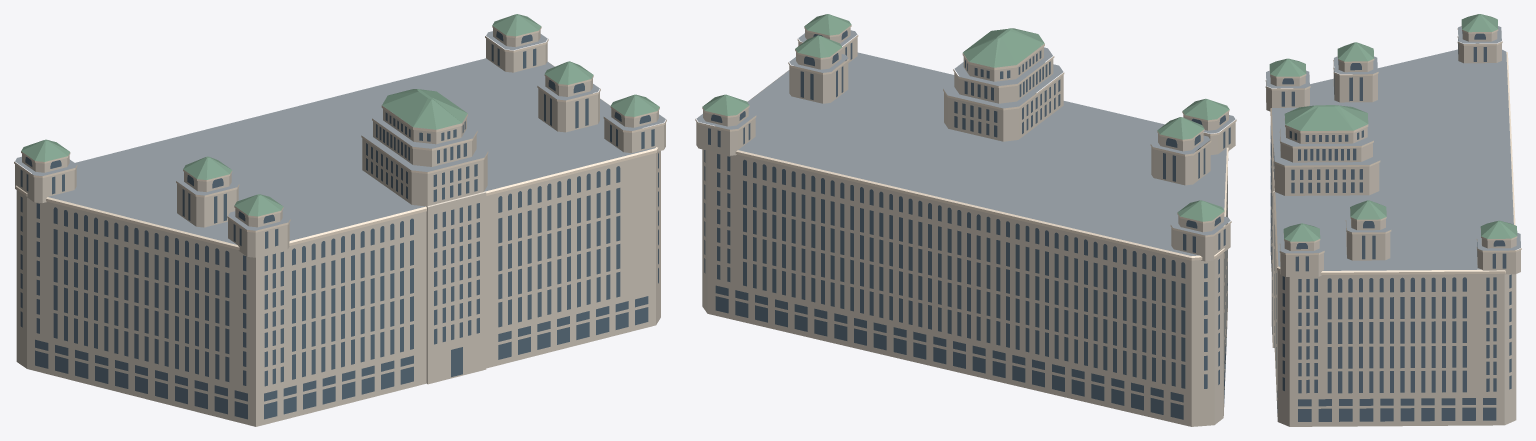
The picture shows the model from 3 angles, left to right: view 1: azimuth 30°, elevation 25°; view 2: azimuth 150°, elevation 25°; view 3: azimuth 270°, elevation 25°; orthographic projection. The views are drawn at different scales.
Parts seen in each view (by area): view 1: merchandise-mart; view 2: merchandise-mart; view 3: merchandise-mart.
Boxes of the visible parts, box(x1,y1,x2,y2) form: merchandise-mart: box(14, 14, 666, 426); merchandise-mart: box(695, 14, 1236, 426); merchandise-mart: box(1265, 14, 1521, 426).
Size of the model in its own units: 224 by 104 by 106.
